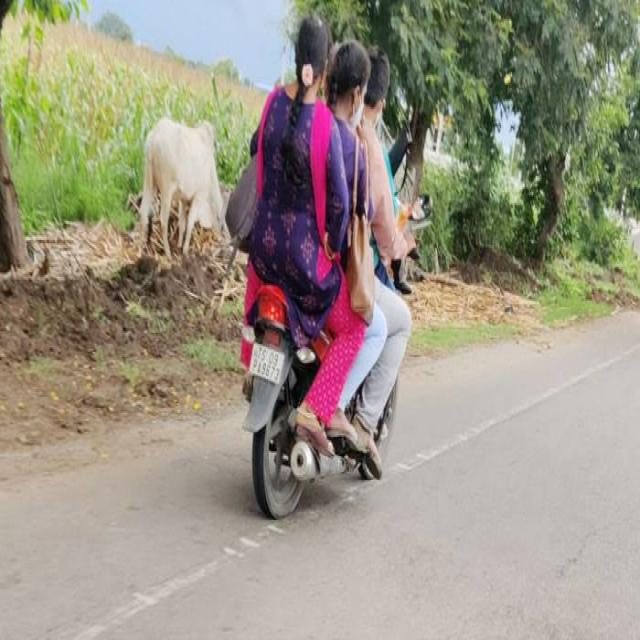triple_rider: (228, 14, 434, 514)
